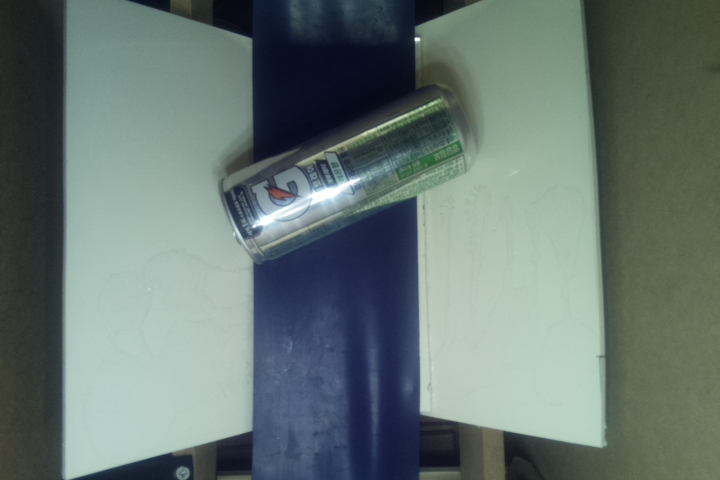can: (222, 83, 480, 268)
